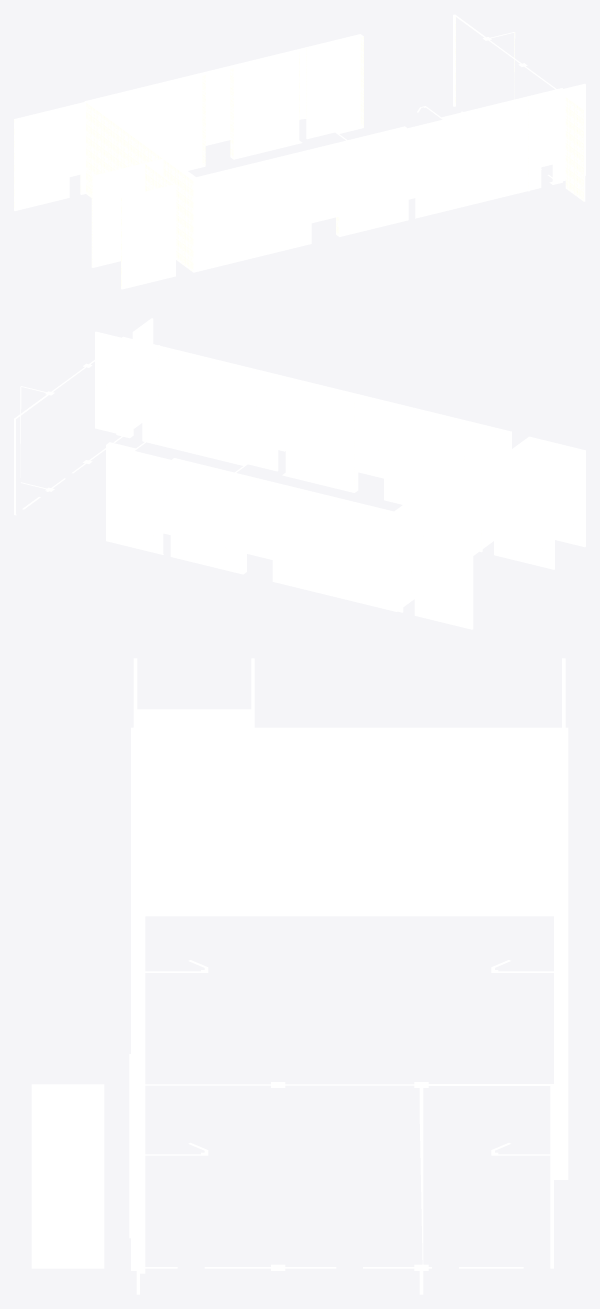
3 renders of one model, top to bottom at view 1: azimuth 30°, elevation 25°; view 2: azimuth 150°, elevation 25°; view 3: azimuth 270°, elevation 25°, orthographic. The views are drawn at different scales.
Visible parts, largest first — view 1: 二层内部墙体; view 2: 二层内部墙体; view 3: 二层内部墙体.
Part boxes in pixels (x1,y1,x2,y2): 二层内部墙体: [14, 14, 585, 289]; 二层内部墙体: [14, 318, 585, 629]; 二层内部墙体: [31, 658, 568, 1294].
Bounding box in the file's own units: 59.9 × 11.26 × 29.95.
1 material, 1 textured.
